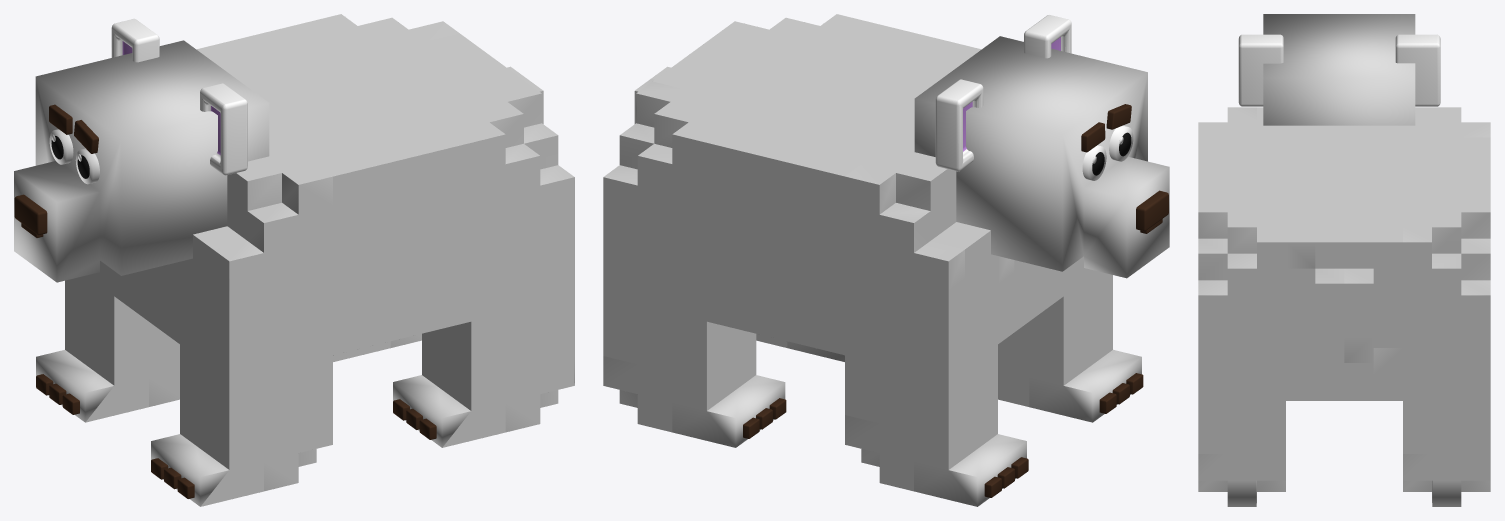
3 views of the same model, side by side, from view 1: azimuth 30°, elevation 25°; view 2: azimuth 150°, elevation 25°; view 3: azimuth 270°, elevation 25° (orthographic). The views are drawn at different scales.
Parts seen in each view (by area): view 1: BipJamExport_snowbear; view 2: BipJamExport_snowbear; view 3: BipJamExport_snowbear.
Part boxes in pixels (x1,y1,x2,y2): BipJamExport_snowbear: (14,14,574,506); BipJamExport_snowbear: (603,14,1169,506); BipJamExport_snowbear: (1198,14,1490,506).
Size of the model in its own units: 1.27 by 0.8965 by 0.7166.
